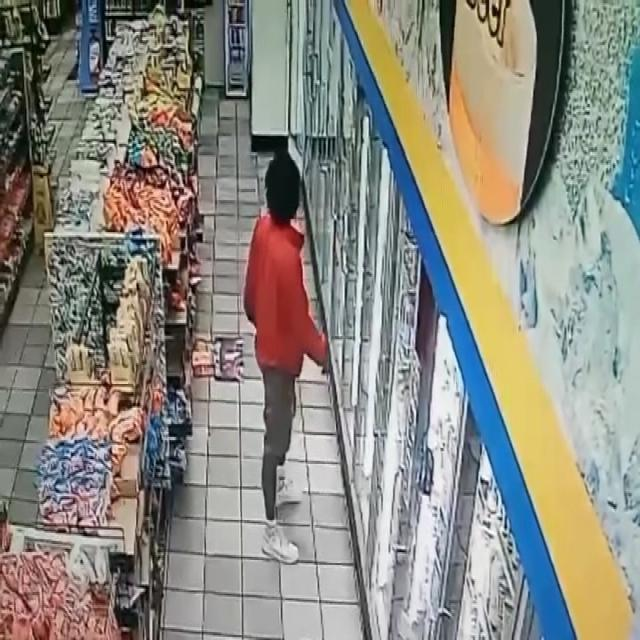Normal: (241, 154, 336, 570)
